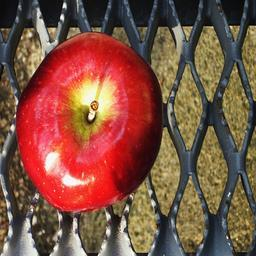apple: (16, 31, 163, 211)
